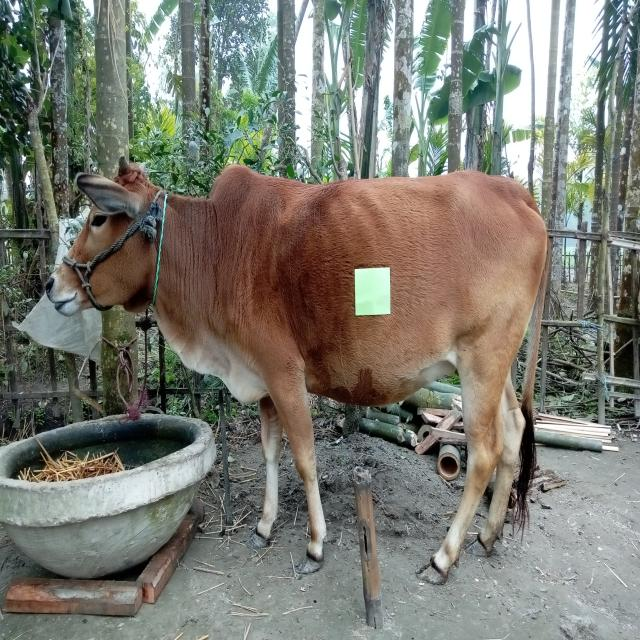badan_sapi: (254, 179, 534, 390)
sapi: (44, 152, 558, 594)
